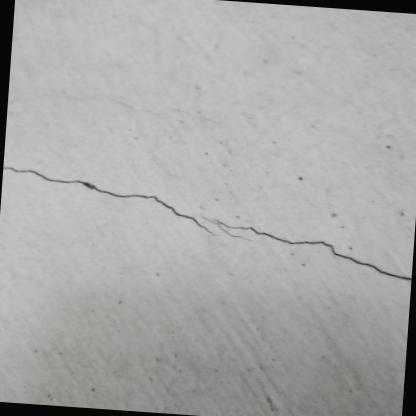crack: (2, 167, 216, 236), (199, 216, 412, 281)
